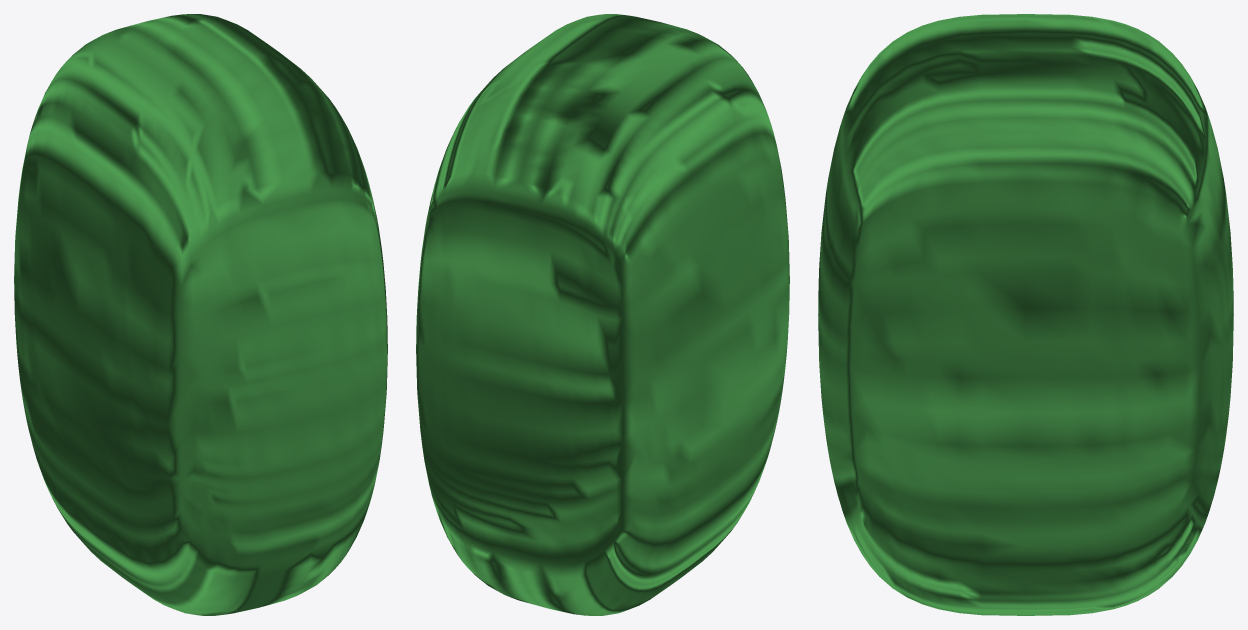
Rendered from balls_Component3 v2.fbx.
The picture shows the model from 3 angles, left to right: view 1: azimuth 30°, elevation 25°; view 2: azimuth 150°, elevation 25°; view 3: azimuth 270°, elevation 25°; orthographic projection. The views are drawn at different scales.
Parts seen in each view (by area): view 1: Body1; view 2: Body1; view 3: Body1.
Part boxes in pixels (x1,y1,x2,y2): Body1: (14,14,387,615); Body1: (416,14,789,615); Body1: (818,14,1233,615).
Size of the model in its own units: 47.92 by 100 by 66.98.
